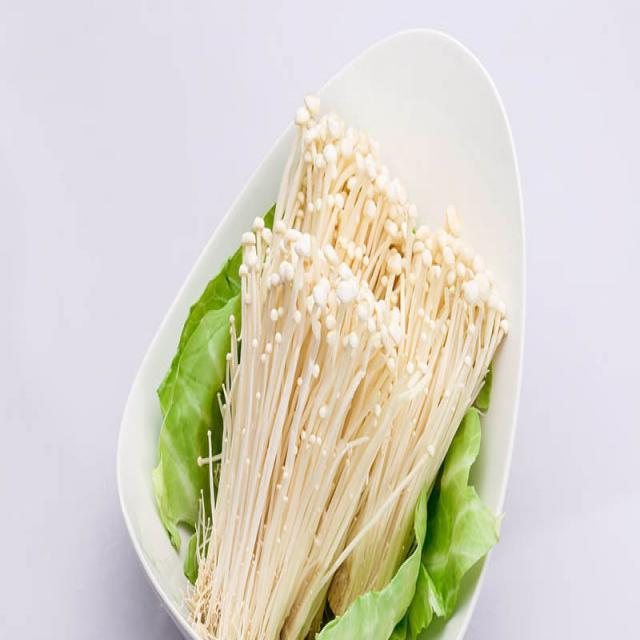Flammulina velutiper: (195, 100, 508, 638)
